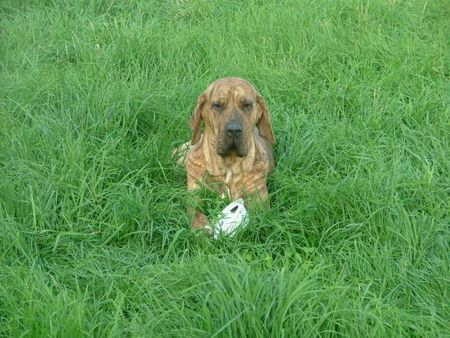fila_brasileiro: (171, 76, 277, 238)
